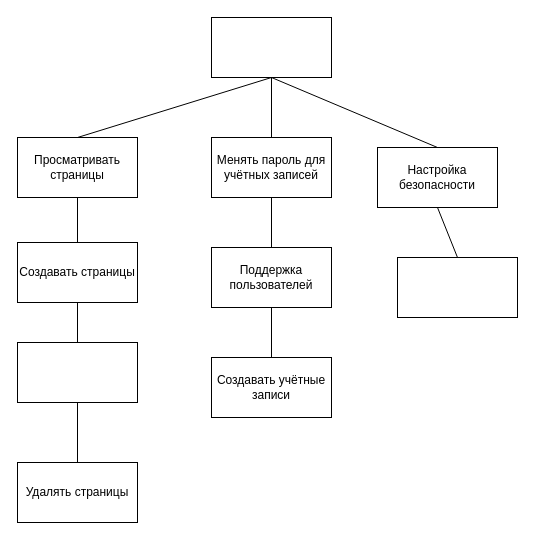
Image size: 535x540. Some labels were removed from this diagram. Each missing label, with the box of its shape:
Администратор: (210, 16, 332, 78)
Редактировать страницы: (16, 342, 138, 402)
Решение технических задач: (396, 256, 518, 318)
